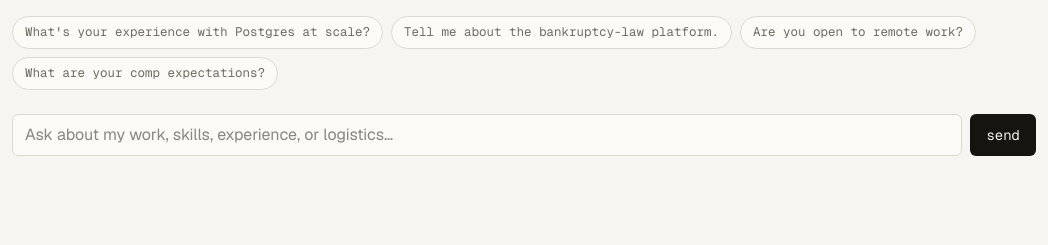
Test: AskChat › sends a question and renders the streamed answer + sources
Type "who are you" into the field at (487, 134), box [12, 114, 962, 156]
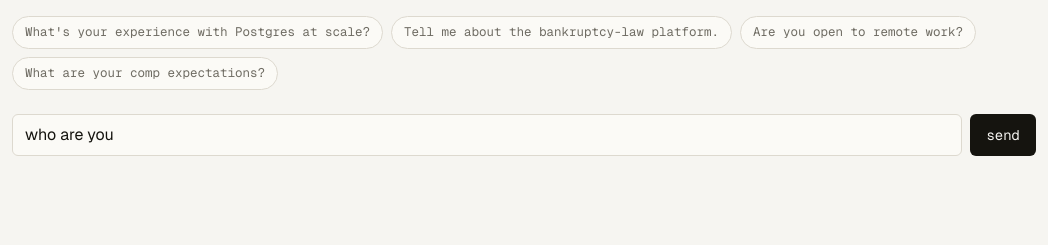
Click the button "send" at (1003, 134), box [970, 114, 1036, 156]
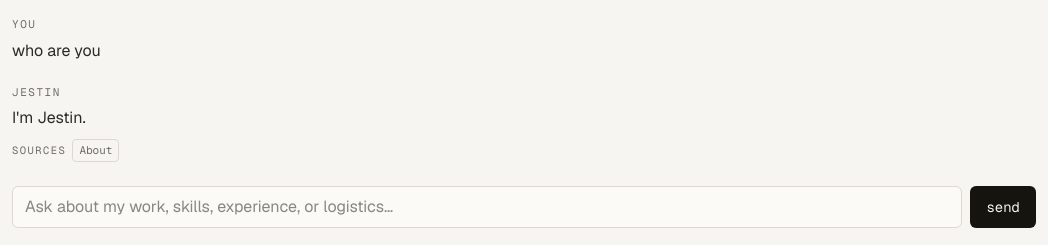
Check: the text "About" is shown, box [72, 139, 119, 162]
Check: the text "I'm Jestin." is shown, box [12, 107, 86, 128]
